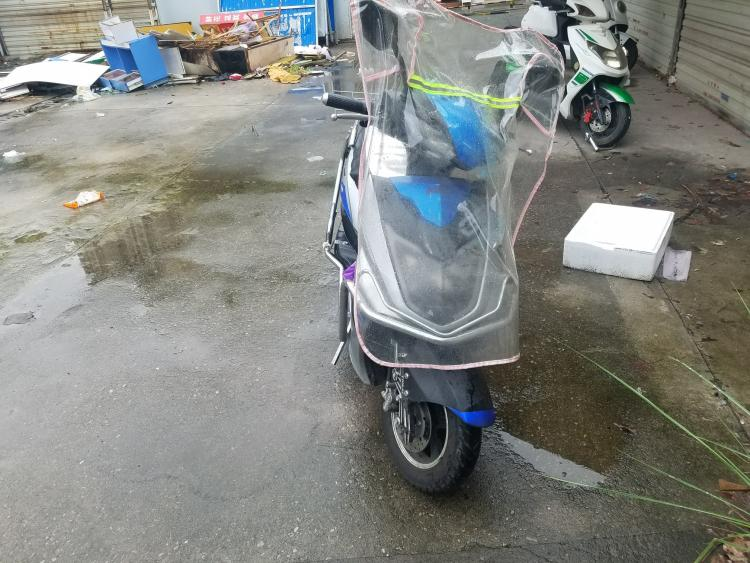电动车: (305, 3, 566, 519)
